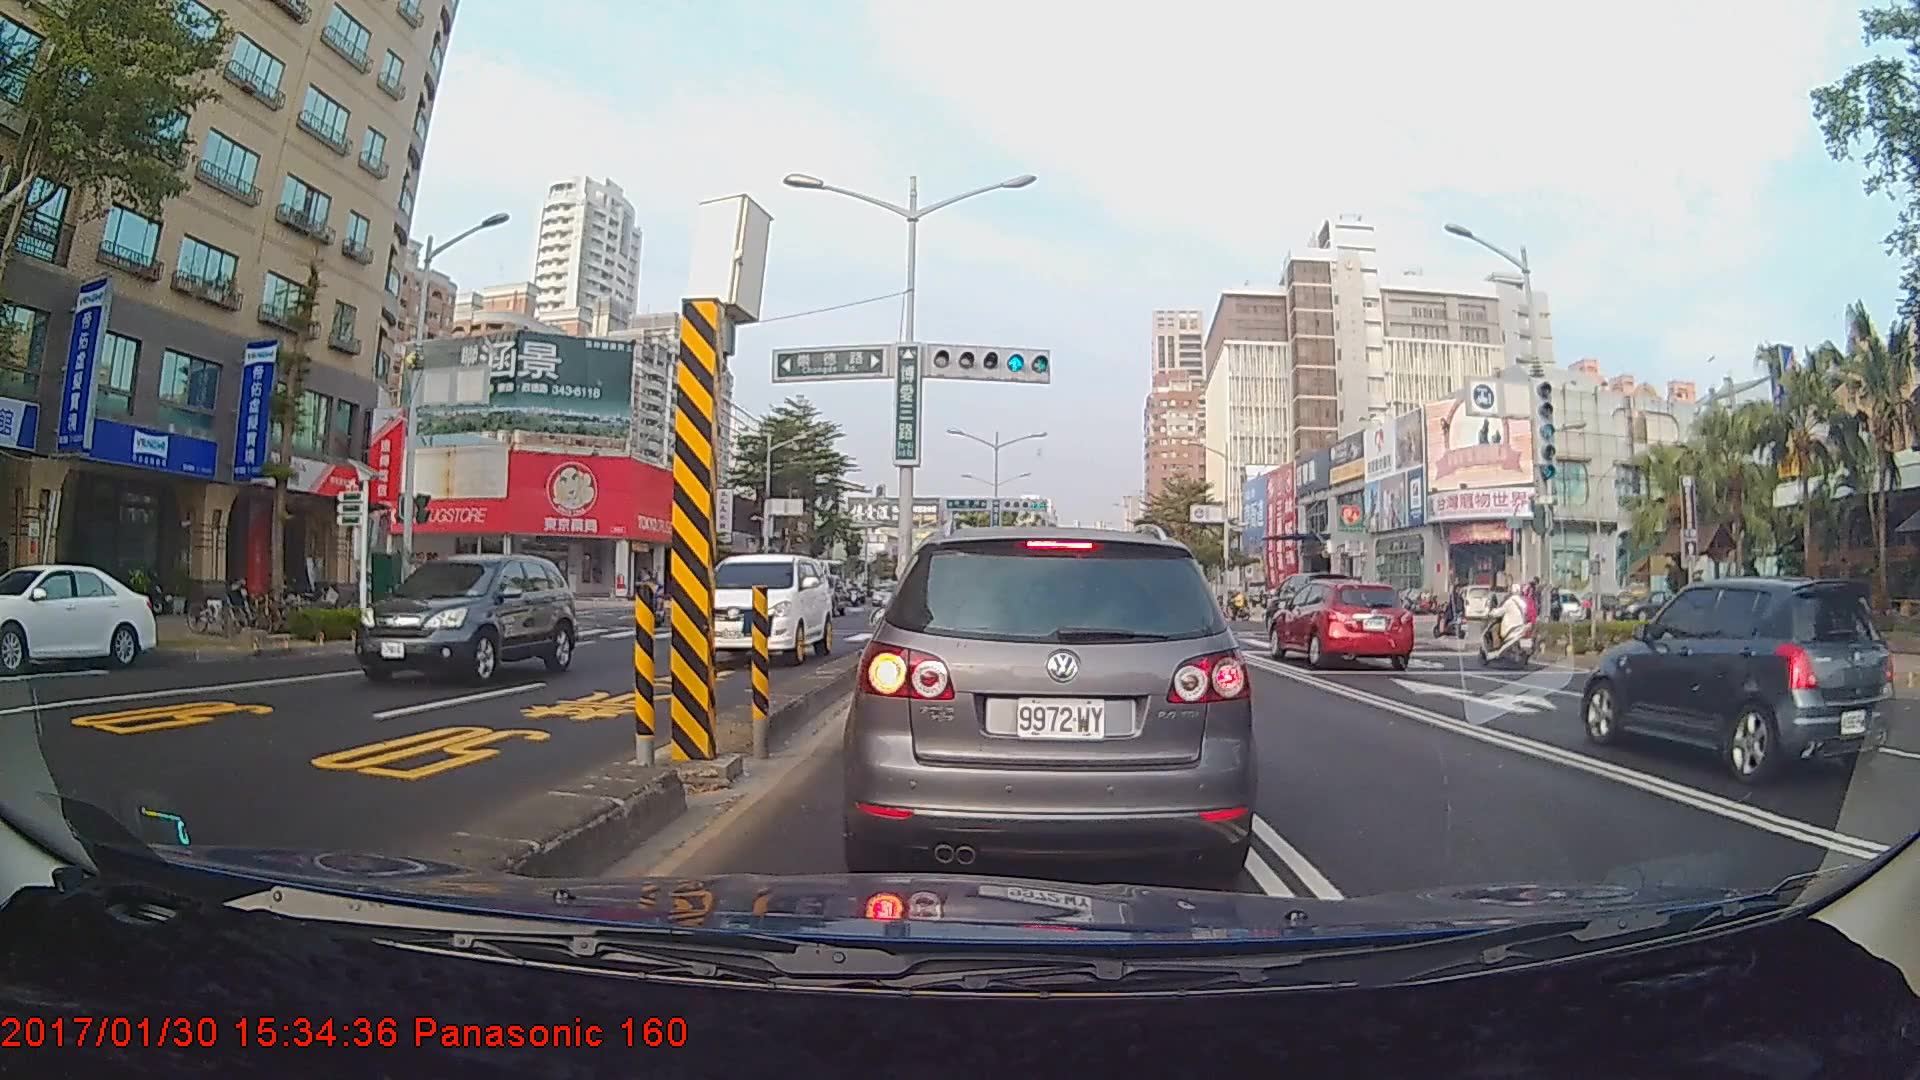rider: (1475, 586, 1546, 676), (1436, 582, 1473, 646)
vehicle: (853, 522, 1253, 872), (1581, 573, 1894, 787), (351, 551, 578, 682), (0, 561, 157, 671), (691, 552, 833, 666), (1266, 577, 1417, 670), (1261, 570, 1352, 636)
